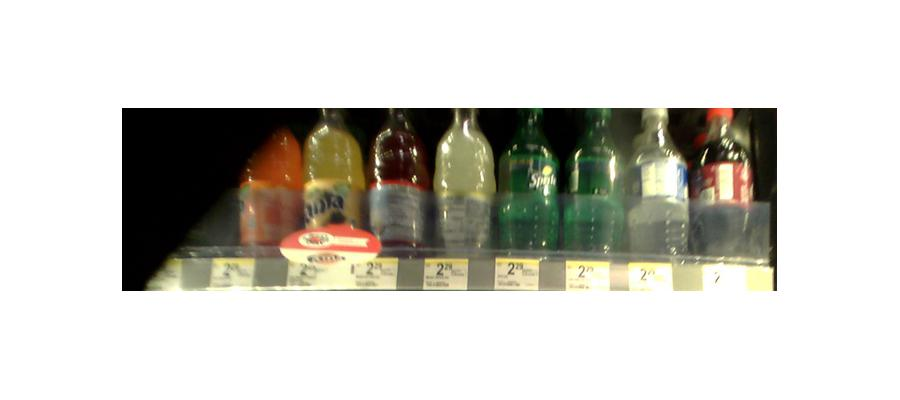bottle: (689, 107, 753, 261), (563, 107, 625, 255), (433, 106, 494, 256), (628, 106, 686, 258), (369, 107, 428, 255), (303, 109, 363, 247), (498, 108, 554, 255), (239, 118, 300, 252)
